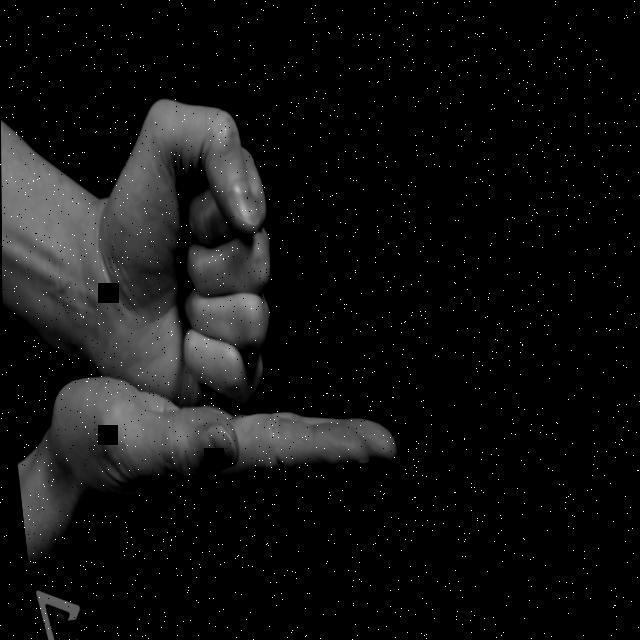Rock: (61, 82, 290, 425)
